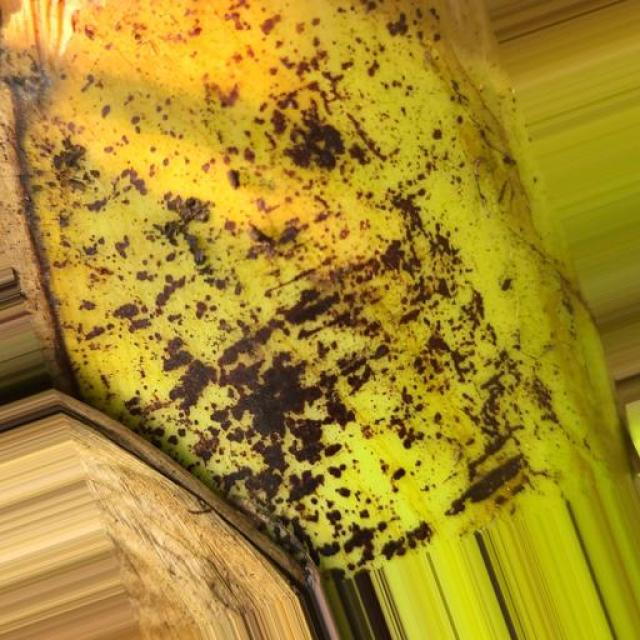Anthracnose: (4, 6, 638, 547)
